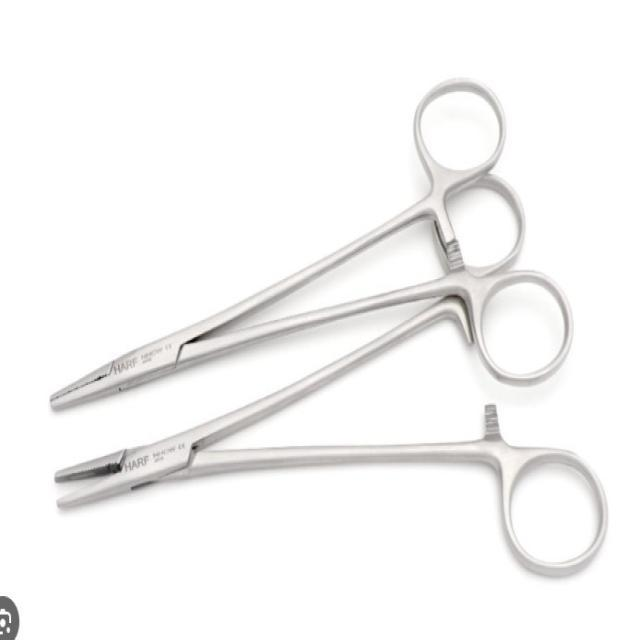Needle Holder: (53, 175, 606, 560), (41, 70, 560, 410)
